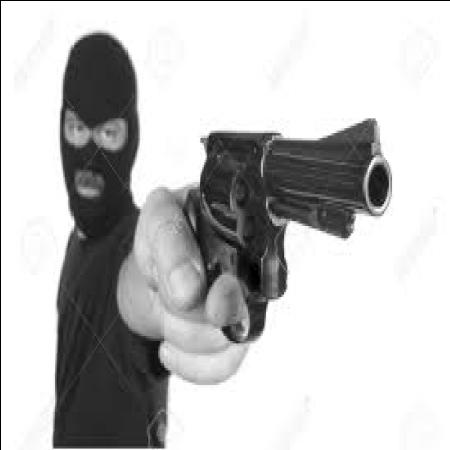Pistol: (172, 115, 388, 340)
